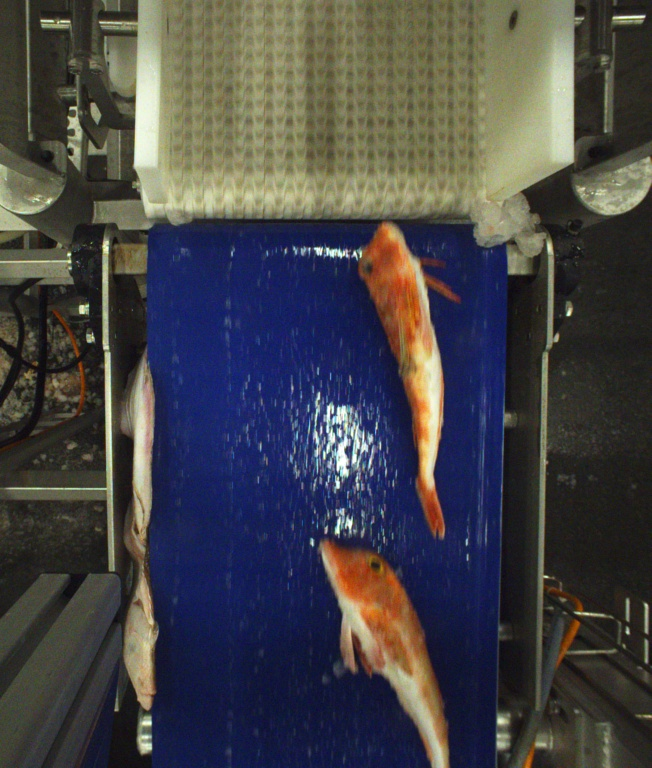GUU: (357, 216, 448, 535)
